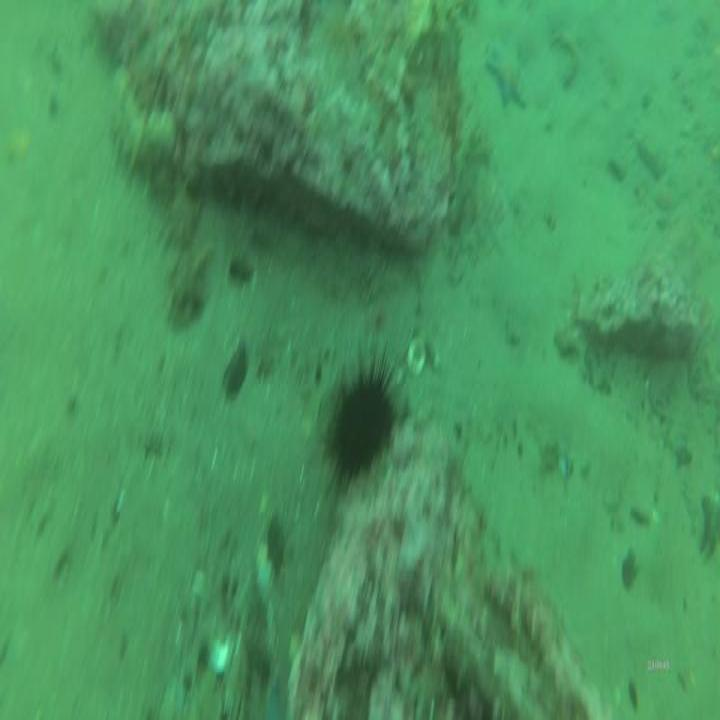echinus: (332, 378, 392, 474)
holothurian: (114, 71, 176, 174)
starfish: (486, 36, 527, 109)
